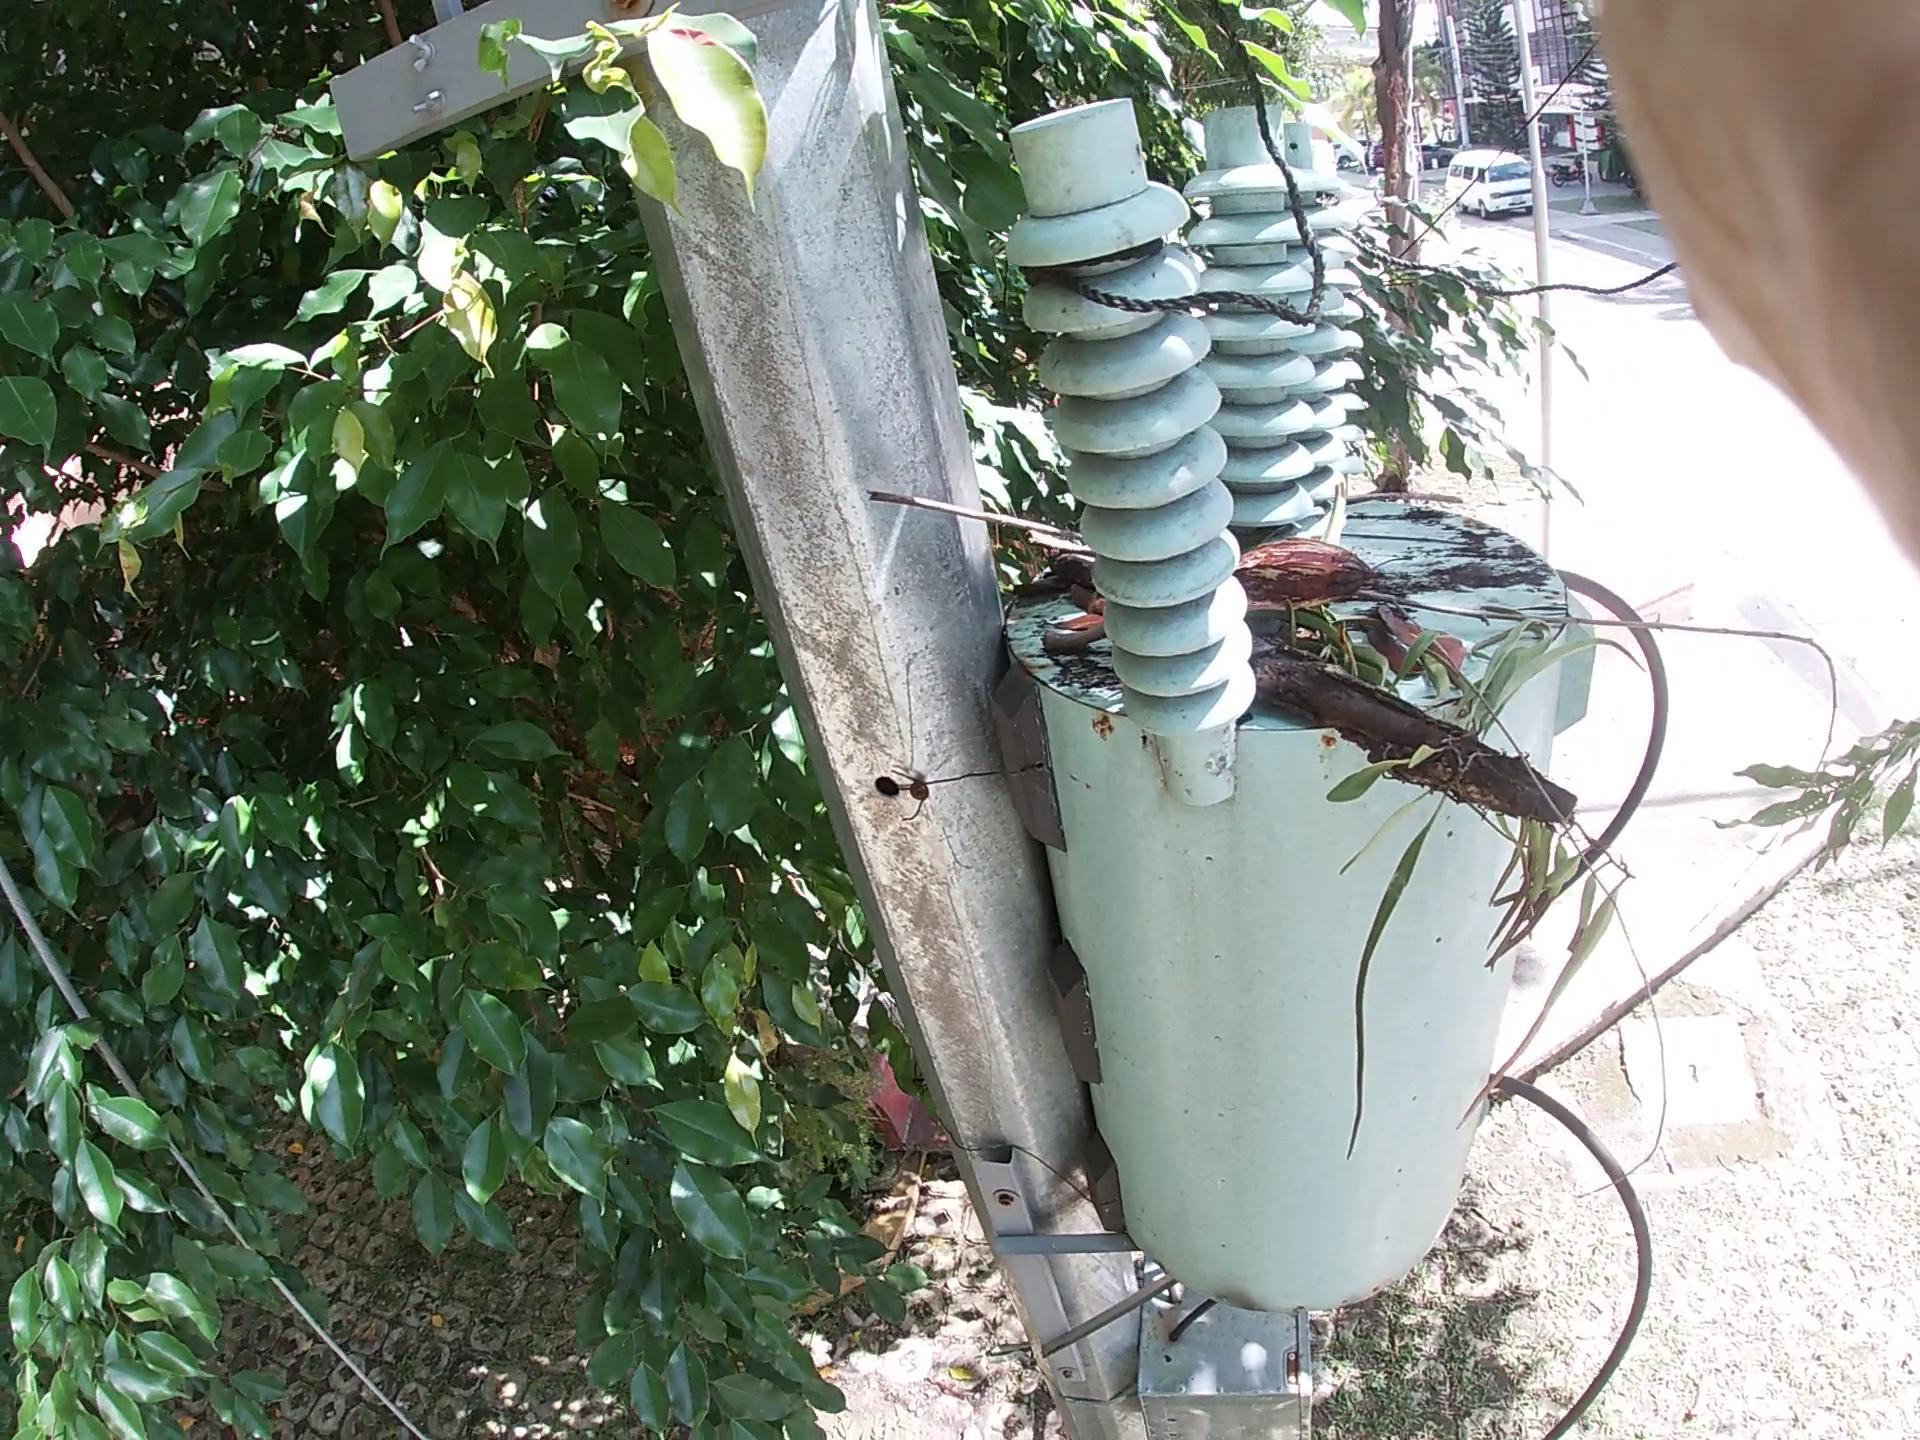branch with leaves: (1181, 601, 1658, 923)
leaf: (990, 532, 1137, 669)
mahogany fruit: (1200, 484, 1398, 656)
tree branch: (862, 469, 1900, 729), (1020, 594, 1129, 690)
